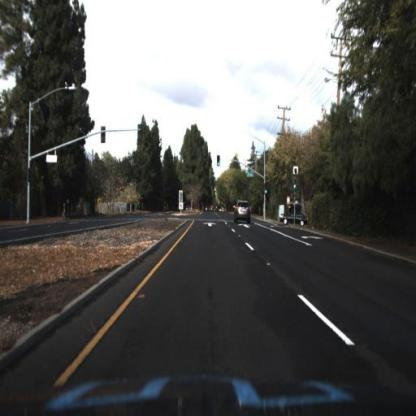car: (234, 197, 254, 225), (276, 210, 309, 226), (281, 209, 308, 227)
trafficLight-Green: (292, 182, 299, 195), (294, 179, 300, 194), (215, 156, 221, 170), (264, 183, 269, 197), (217, 155, 222, 168), (264, 186, 269, 196)
